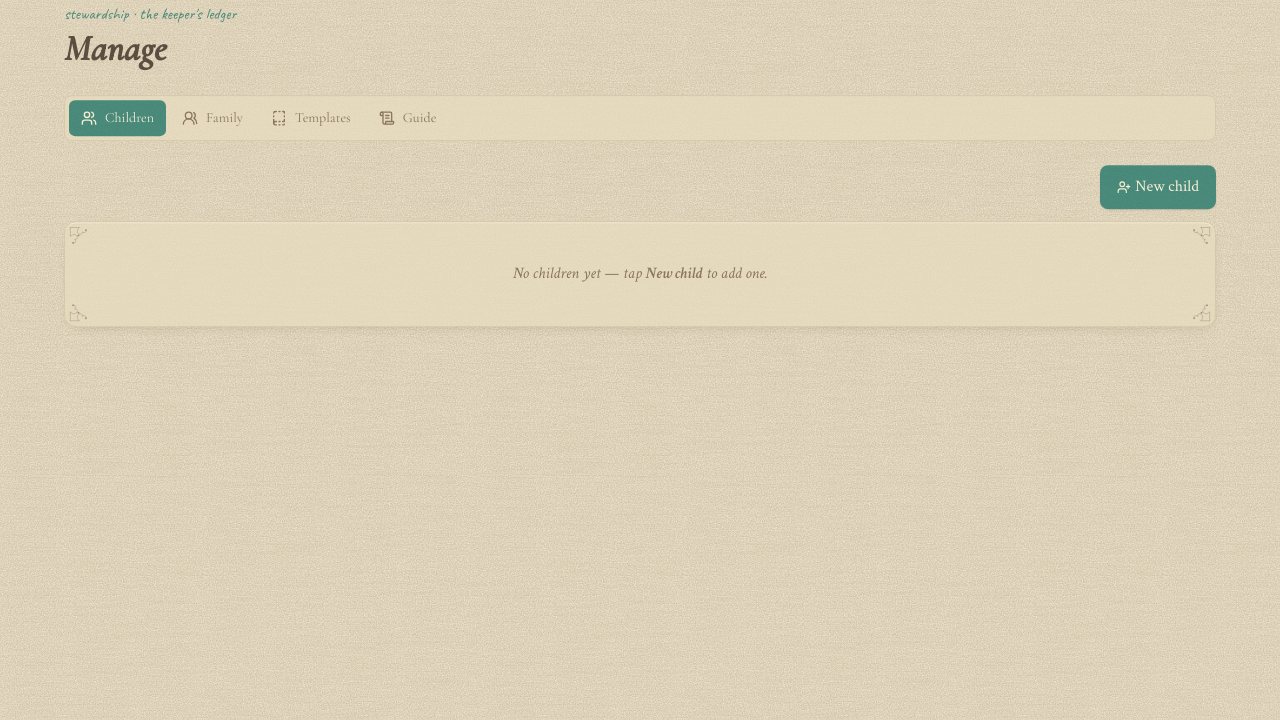
Test: Manage — create child flow › opens the BottomSheet when "New child" is clicked
Click the button "New child" at (1158,187), box [1100,165,1216,209]
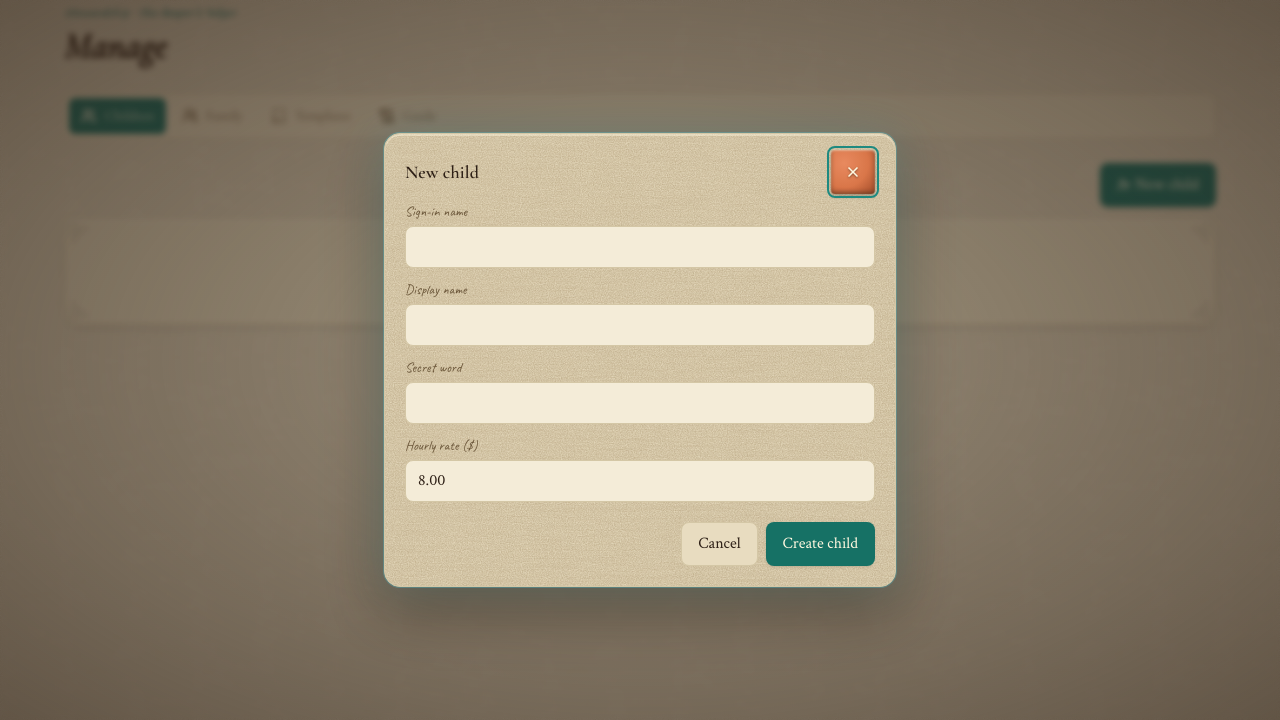
Now the dialog "New child" is shown, box [384,133,896,587]
Now the field labelled "Sign-in name" is shown, box [405,226,875,268]
Now the password field labelled "Secret word" is shown, box [405,382,875,424]
